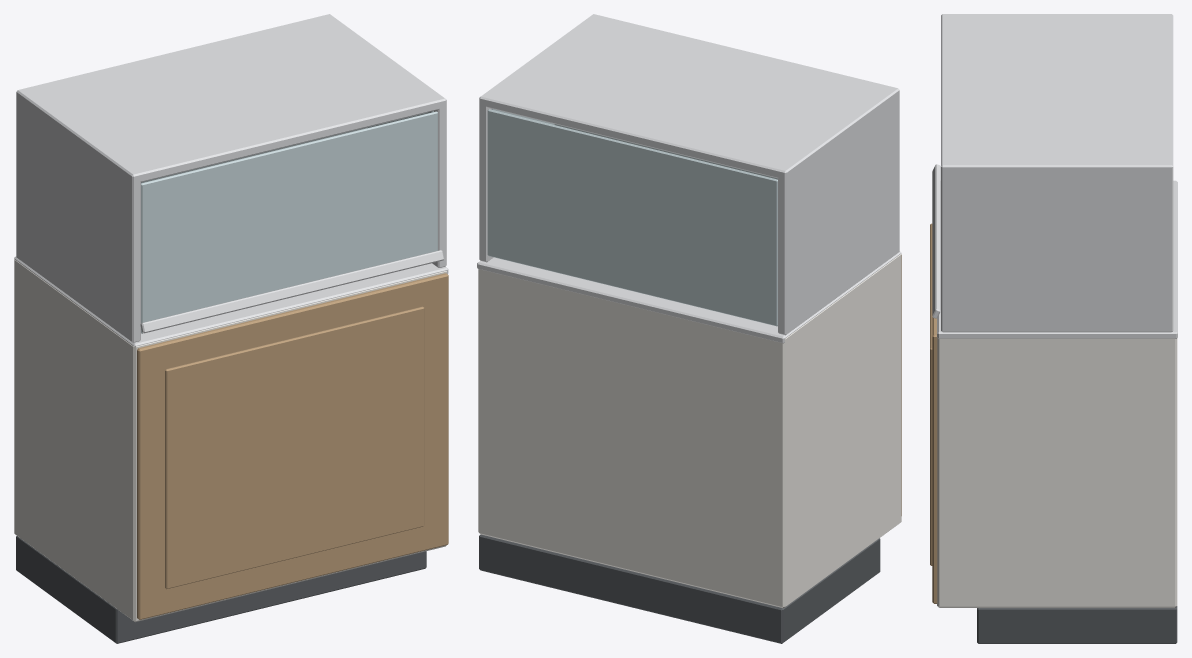
Rendered from bakery-and-cafe-display-case-straight-ambient-5fce7694__22153.glb.
The picture shows the model from 3 angles, left to right: view 1: azimuth 30°, elevation 25°; view 2: azimuth 150°, elevation 25°; view 3: azimuth 270°, elevation 25°; orthographic projection. The views are drawn at different scales.
Parts seen in each view (by area): view 1: display-case-straight-ambient; view 2: display-case-straight-ambient; view 3: display-case-straight-ambient.
Boxes of the visible parts, box(x1,y1,x2,y2) form: display-case-straight-ambient: box(14, 14, 448, 643); display-case-straight-ambient: box(477, 14, 901, 643); display-case-straight-ambient: box(930, 14, 1177, 643).
Size of the model in its own units: 0.9012 by 1.32 by 0.6182.
